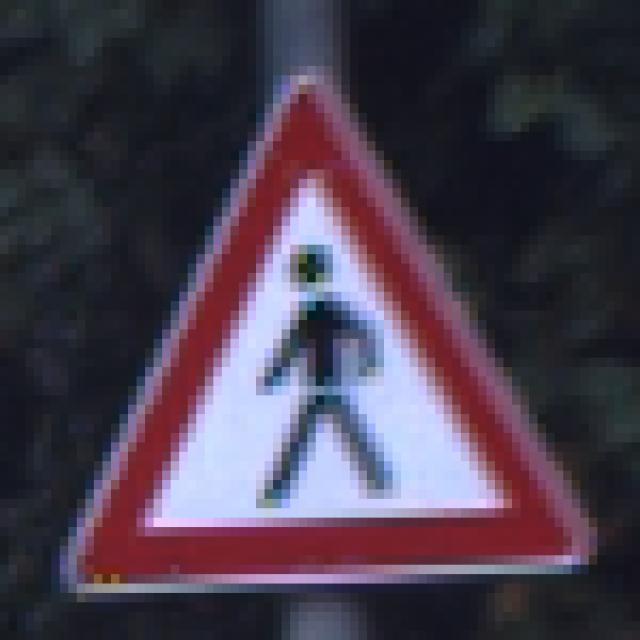pedestrian crossing: (60, 65, 591, 583)
